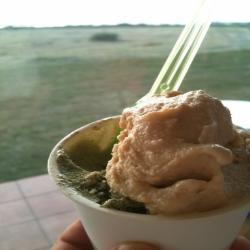icecream: (80, 89, 241, 210)
